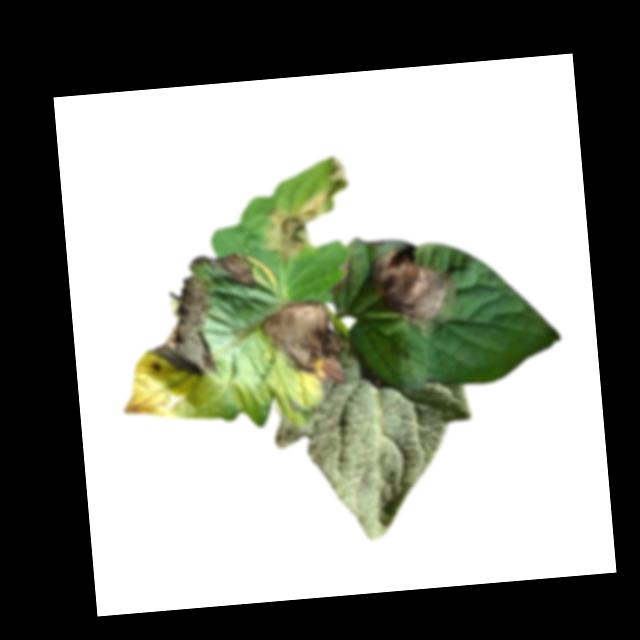Late_blight: (256, 154, 356, 265), (363, 245, 458, 339), (139, 274, 217, 383), (254, 298, 343, 391), (190, 249, 256, 295), (328, 257, 353, 296)
healthy: (266, 336, 481, 546)
